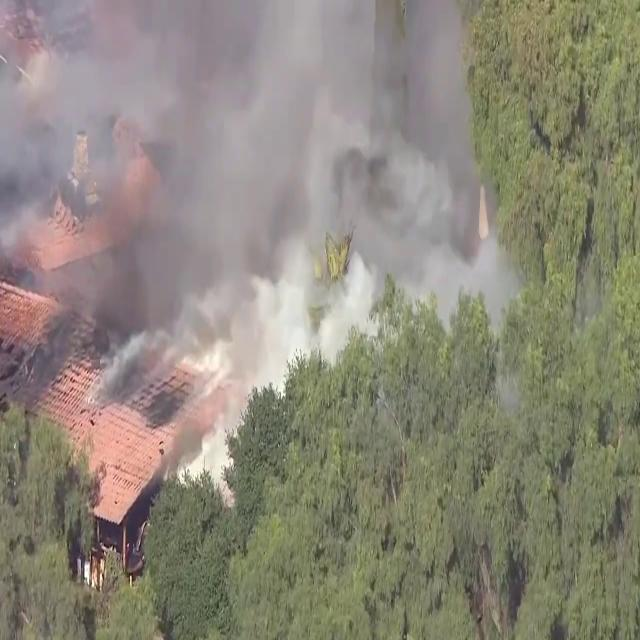Smoke: (1, 0, 501, 422)
